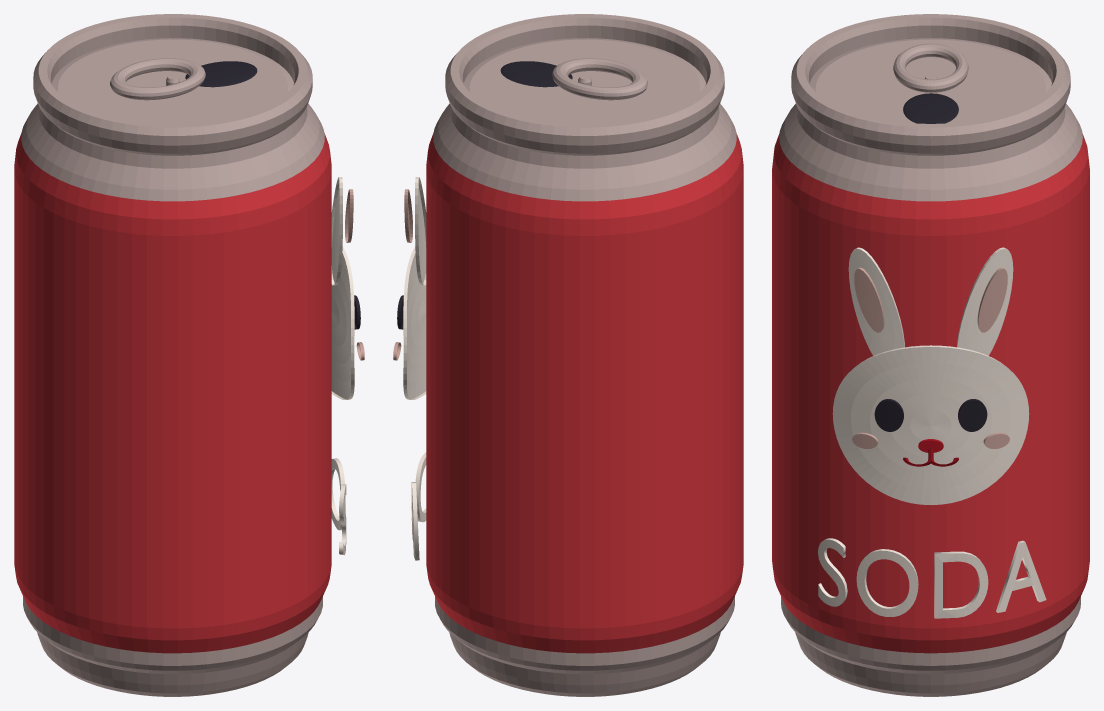
3 views of the same model, side by side, from view 1: azimuth 30°, elevation 25°; view 2: azimuth 150°, elevation 25°; view 3: azimuth 270°, elevation 25° (orthographic).
Visible parts, largest first — view 1: body, static_pal_sidewalk, static_pal_picketWhite, static_pal_uiDark, static_pal_infectedSkin; view 2: body, static_pal_sidewalk, static_pal_picketWhite, static_pal_uiDark, static_pal_infectedSkin; view 3: body, static_pal_sidewalk, static_pal_picketWhite, static_pal_infectedSkin, static_pal_uiDark, static_pal_blood.
Boxes of the visible parts, left/top/right/bottom form: body: left=14, top=133, right=331, bottom=653; static_pal_sidewalk: left=21, top=14, right=324, bottom=696; static_pal_picketWhite: left=331, top=177, right=354, bottom=555; static_pal_uiDark: left=185, top=61, right=360, bottom=329; static_pal_infectedSkin: left=345, top=189, right=364, bottom=360; body: left=426, top=133, right=743, bottom=653; static_pal_sidewalk: left=433, top=14, right=736, bottom=696; static_pal_picketWhite: left=403, top=177, right=426, bottom=560; static_pal_uiDark: left=397, top=61, right=572, bottom=329; static_pal_infectedSkin: left=393, top=189, right=412, bottom=360; body: left=772, top=133, right=1089, bottom=653; static_pal_sidewalk: left=779, top=14, right=1082, bottom=696; static_pal_picketWhite: left=818, top=247, right=1046, bottom=618; static_pal_infectedSkin: left=852, top=267, right=1009, bottom=448; static_pal_uiDark: left=874, top=93, right=987, bottom=431; static_pal_blood: left=903, top=439, right=958, bottom=466.
Size of the model in its own units: 0.1014 by 0.1823 by 0.091.
